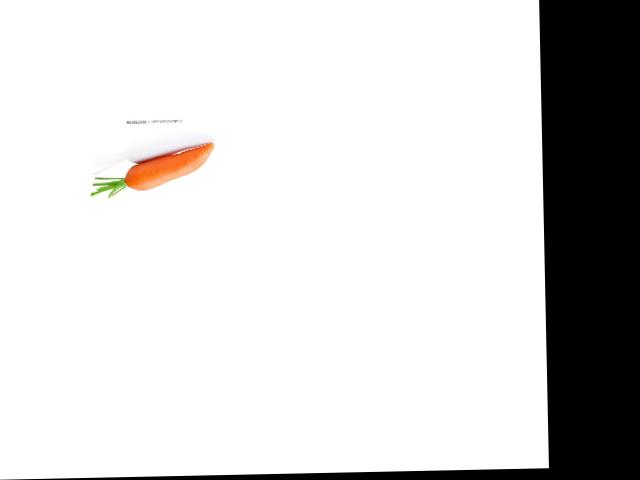carrot: (112, 141, 221, 194)
